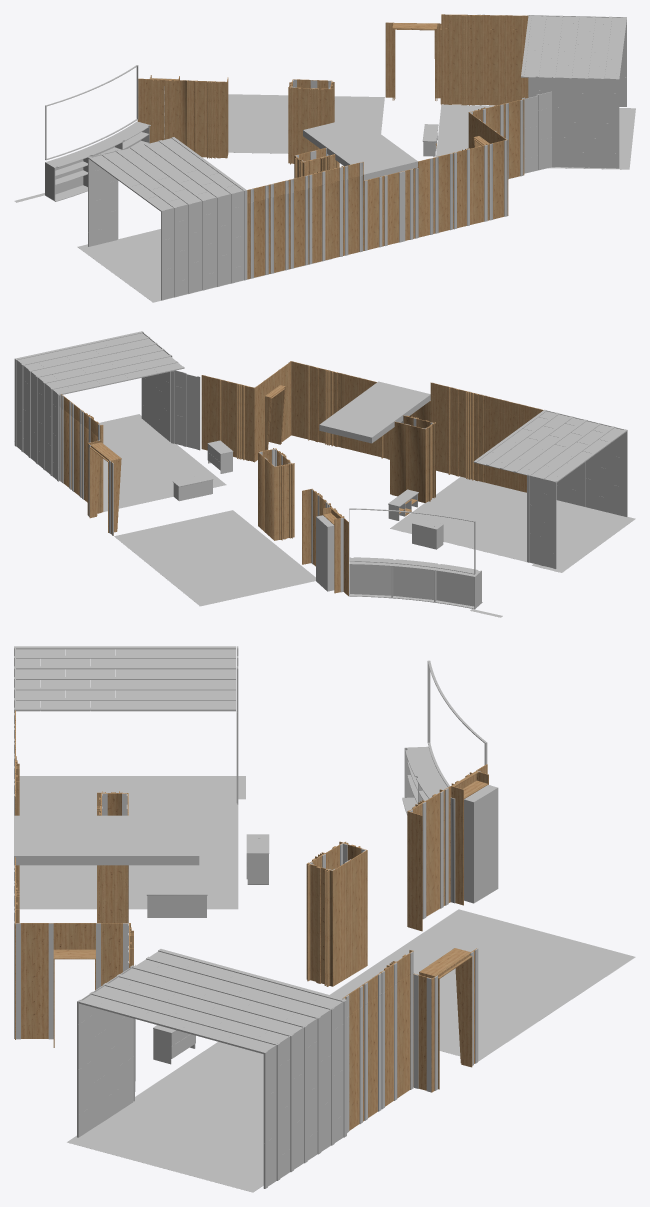
The model's file is simulator.obj.
The picture shows the model from 3 angles, top to bottom: view 1: azimuth 30°, elevation 25°; view 2: azimuth 150°, elevation 25°; view 3: azimuth 270°, elevation 25°; orthographic projection. The views are drawn at different scales.
Parts seen in each view (by area): view 1: 641, 635, 611, 629, 247, 249, 98, 129, 232, 144, 157, 175 (+38 smaller); view 2: 641, 635, 629, 611, 96, 144, 221, 2, 1, 0, 172, 129 (+30 smaller); view 3: 629, 635, 641, 611, 197, 309, 61, 98, 609, 60, 114, 232 (+13 smaller).
Boxes of the visible parts, box(x1,y1,x2,y2) form: 641: box(228, 94, 384, 153); 635: box(80, 229, 332, 302); 611: box(303, 117, 417, 174); 629: box(436, 104, 635, 169); 247: box(481, 29, 503, 105); 249: box(504, 29, 526, 103); 98: box(187, 80, 209, 157); 129: box(468, 144, 488, 224); 232: box(442, 28, 461, 104); 144: box(488, 139, 508, 220); 157: box(325, 180, 343, 260); 175: box(249, 198, 269, 278); 641: box(114, 510, 315, 606); 635: box(390, 477, 635, 570); 629: box(14, 414, 226, 511); 611: box(319, 381, 430, 437); 96: box(406, 424, 425, 502); 144: box(290, 361, 309, 439); 221: box(201, 375, 220, 450); 2: box(350, 564, 391, 595); 1: box(393, 566, 433, 599); 0: box(436, 571, 474, 606); 172: box(430, 395, 448, 473); 129: box(309, 365, 328, 443); 629: box(67, 1041, 263, 1192); 635: box(19, 776, 238, 909); 641: box(330, 909, 635, 1061); 611: box(14, 815, 199, 855); 197: box(16, 923, 53, 1038); 309: box(473, 787, 498, 903); 61: box(347, 850, 367, 977); 98: box(423, 790, 444, 916); 609: box(14, 856, 199, 865); 60: box(333, 862, 347, 986); 114: box(408, 811, 422, 931); 232: box(397, 974, 410, 1098).
Bounding box in the file's own units: 19.7 × 3.02 × 12.43.
